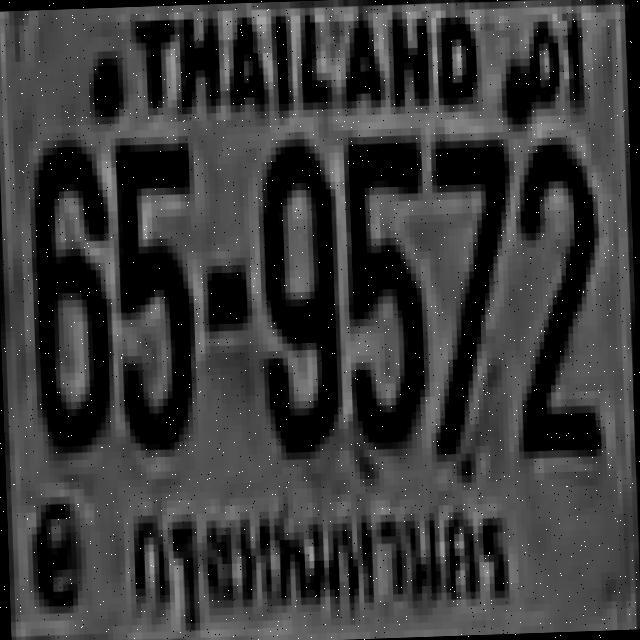2: (512, 132, 600, 433), (512, 132, 600, 411)
5: (338, 132, 426, 446), (110, 136, 198, 444)
6: (23, 132, 111, 446)
7: (425, 128, 514, 451)
9: (251, 134, 339, 450)
Bangkok: (122, 480, 520, 640)
